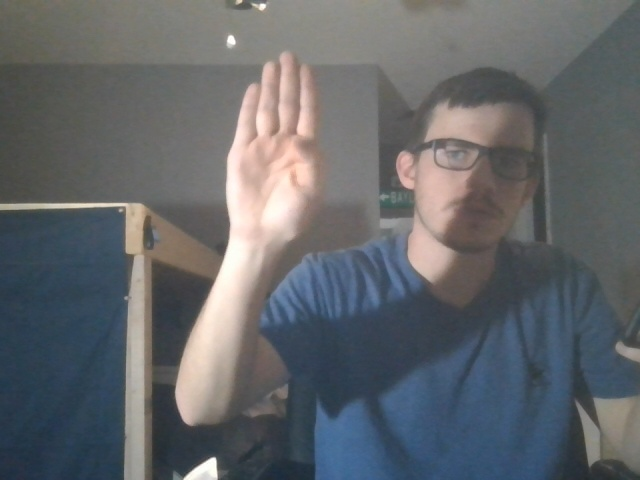B: (214, 44, 347, 248)
